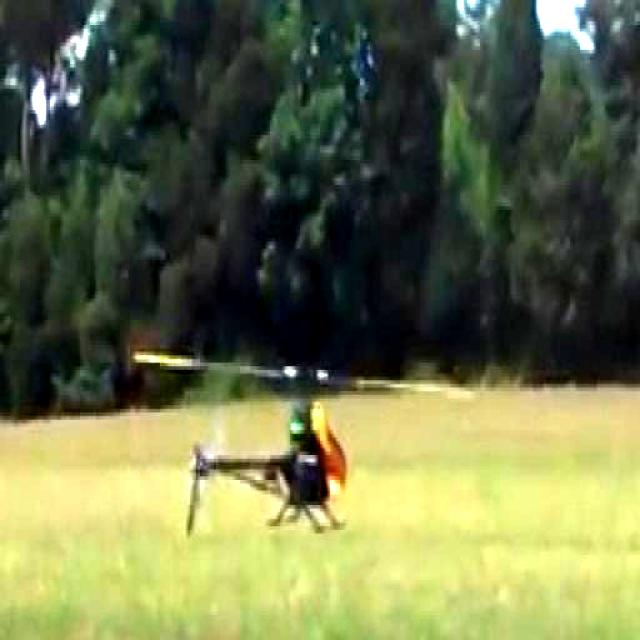drone: (130, 338, 482, 546)
